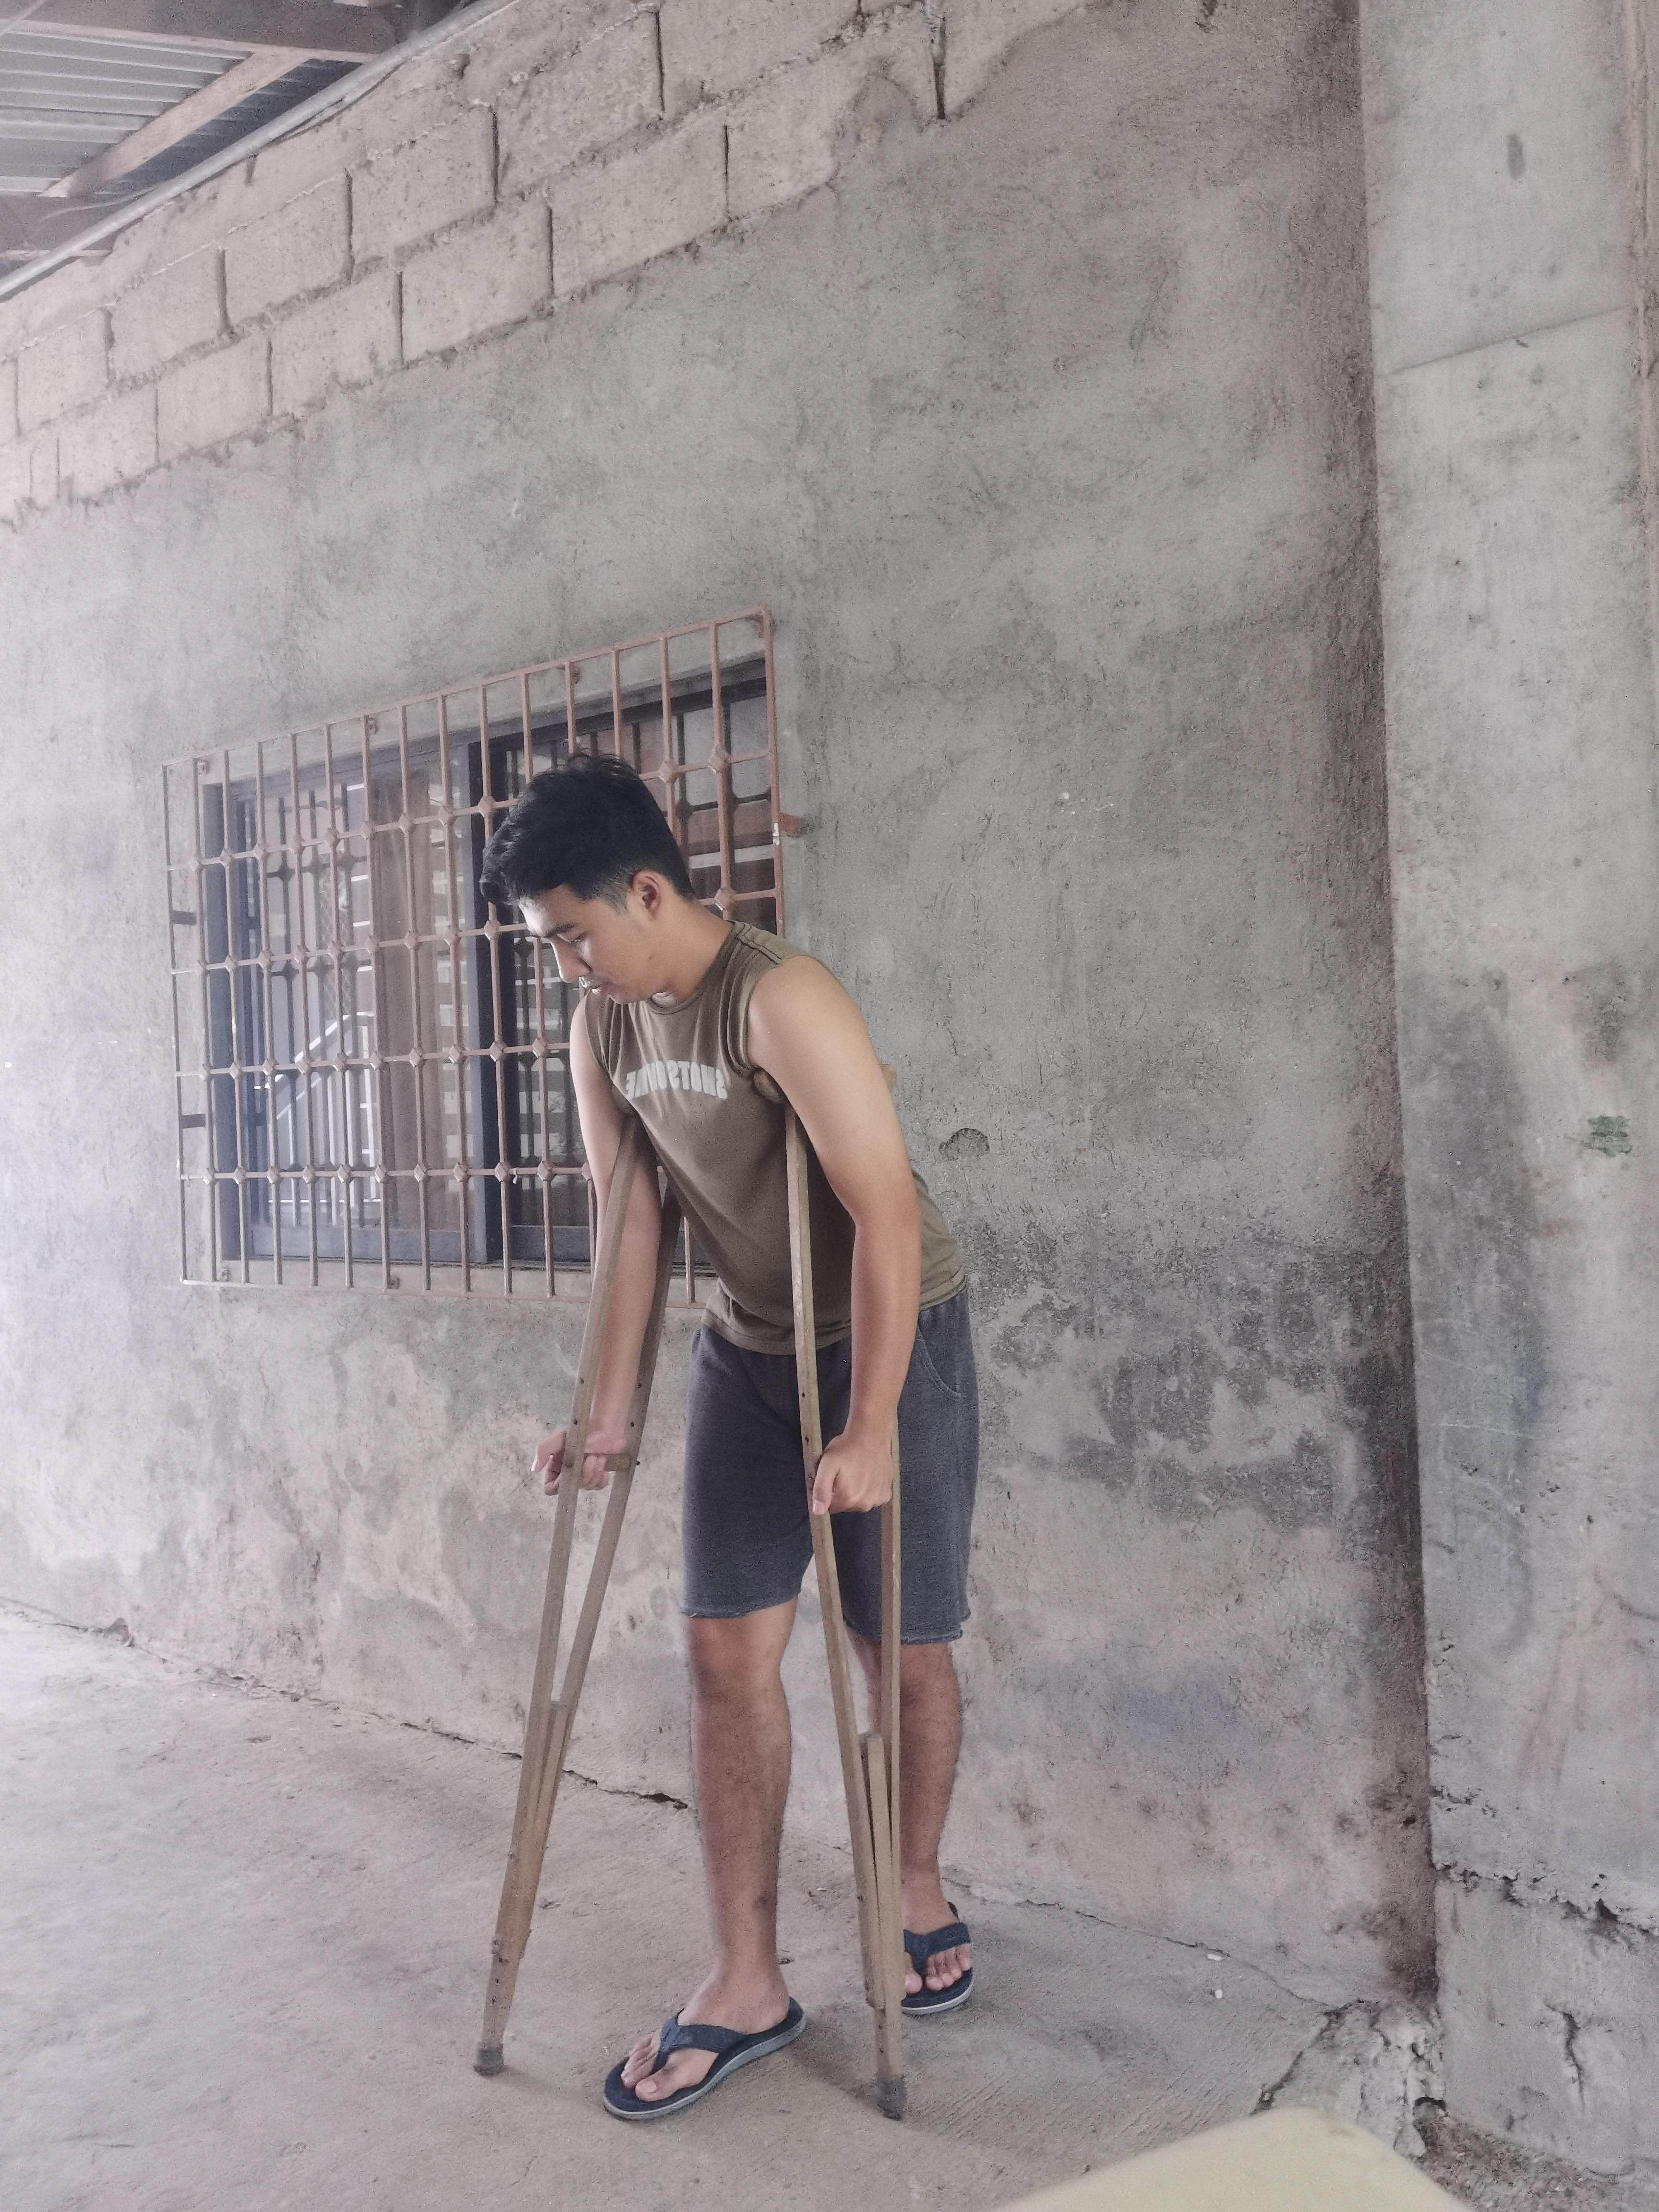crutches: (457, 730, 999, 2135)
